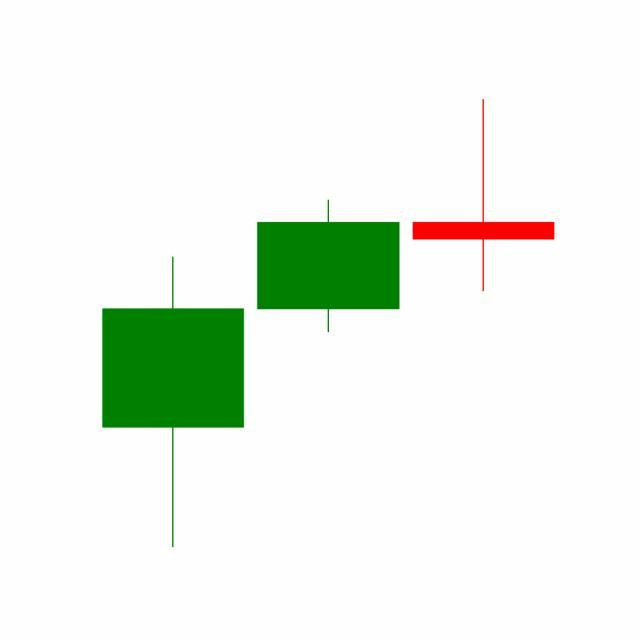Spinning Top: (406, 98, 562, 295)
